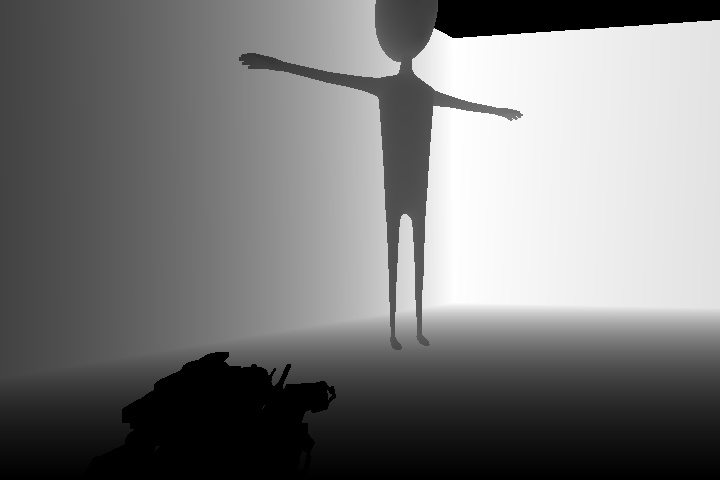alien: (235, 1, 529, 352)
